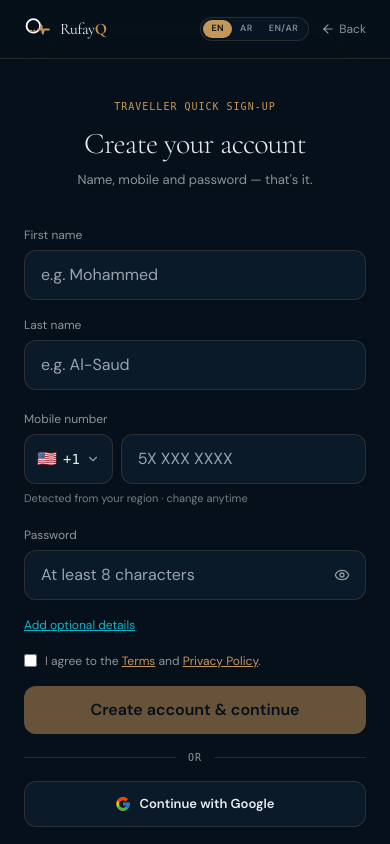
Scenario: QuickSignup › hides Gender by default; reveals it inside 'Add optional details'
This screenshot has width=390, height=844.
Expected: the element "Gender" is not shown
Click the button "Add optional details". click: (80,625)
box: [24,616,135,634]
(page scrolled)
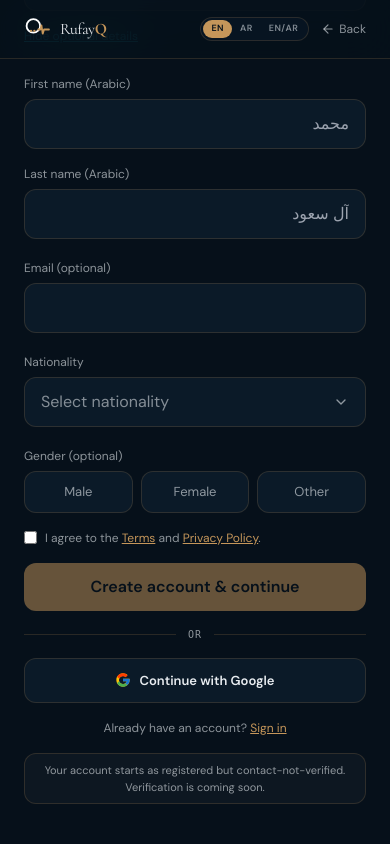
Result: the element named "Gender" is shown at [24,471,366,512]
Result: the radio button labelled "Male" is shown at [24,471,133,512]
Result: the radio button labelled "Female" is shown at [141,471,249,512]
